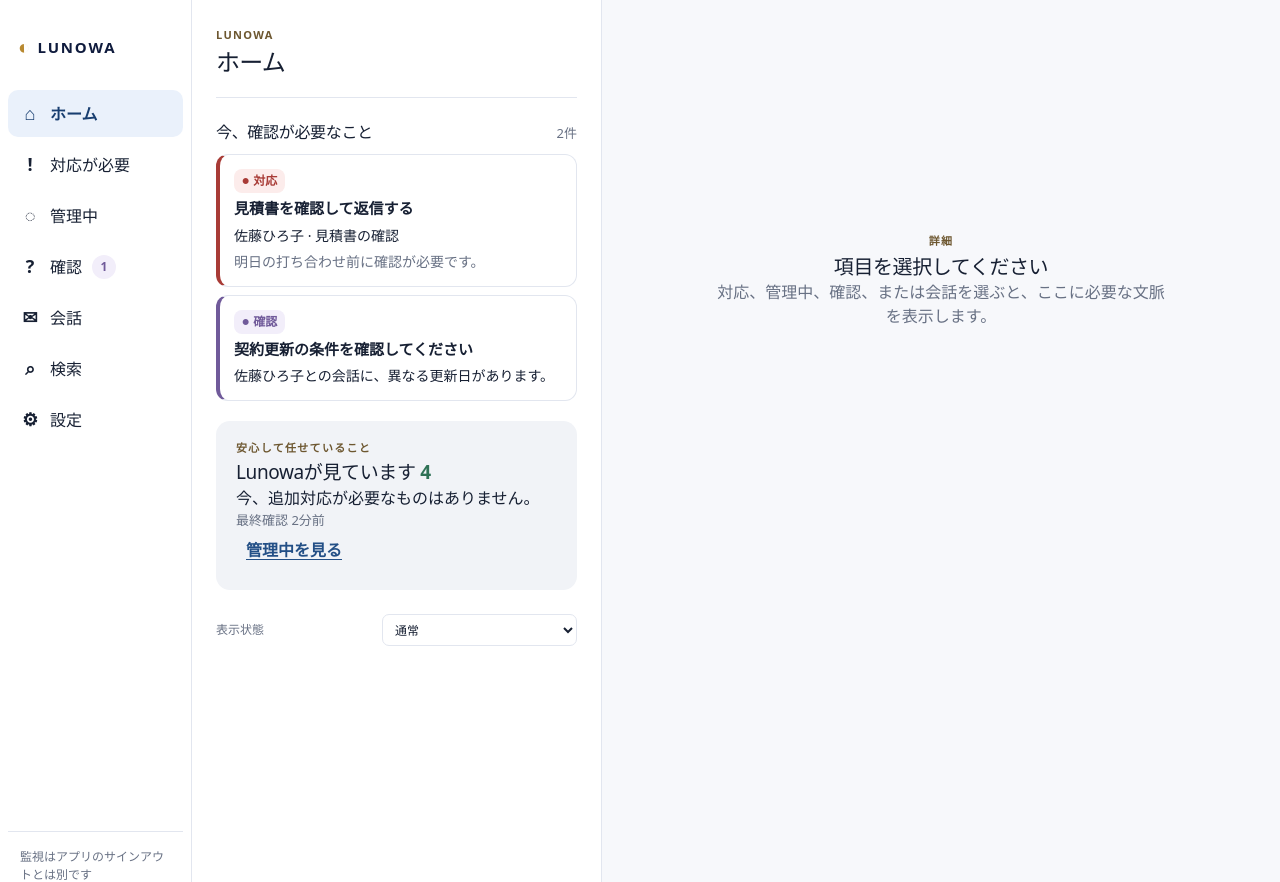
Test case: LunowaShell › keeps Source and Moment distinct and opens each from its explicit affordance
Click the button with aria-label "会話を表示" at (96, 318), box [8,294,183,341]
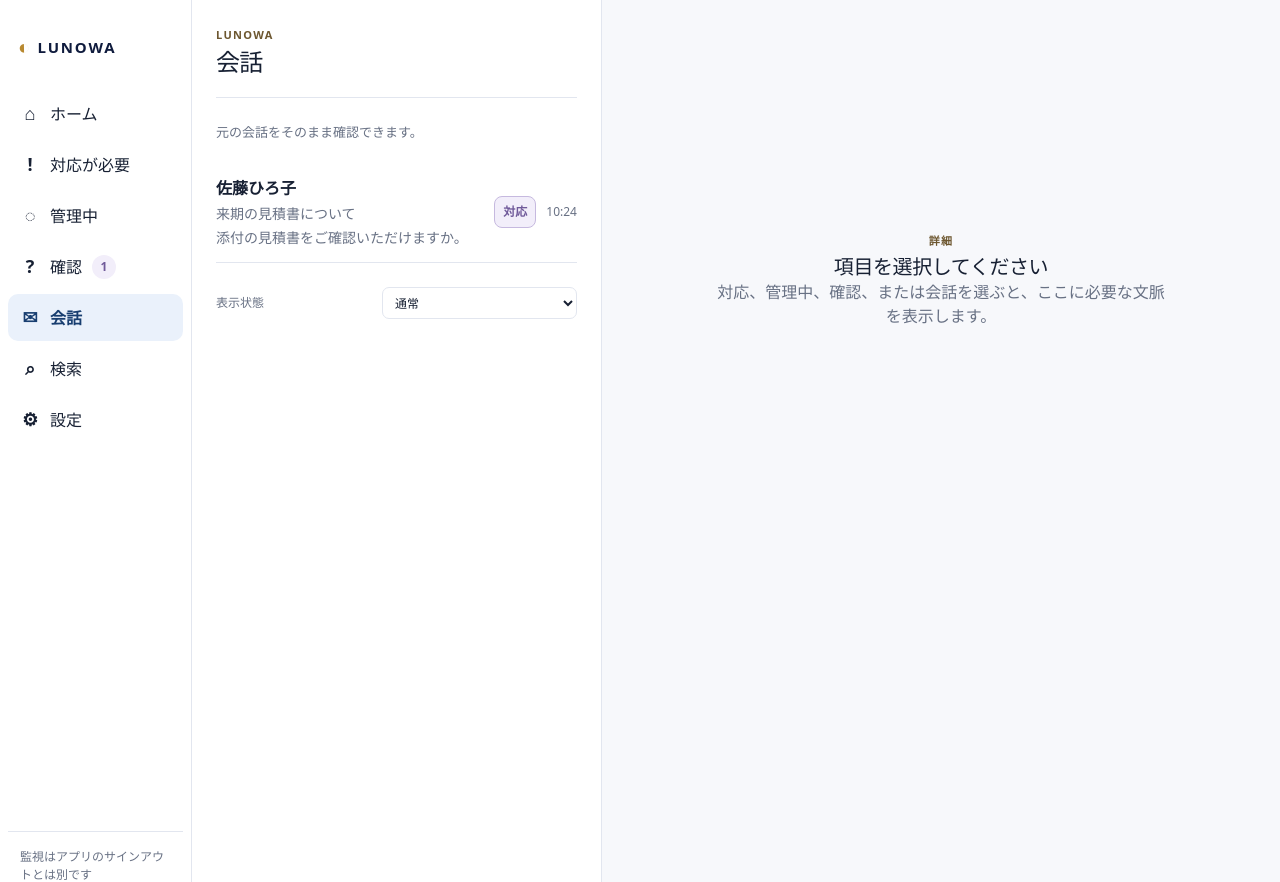
Click the button "佐藤ひろ子 来期の見積書について 添付の見積書をご確認いただけますか。" at (350, 212), box [216,174,484,250]
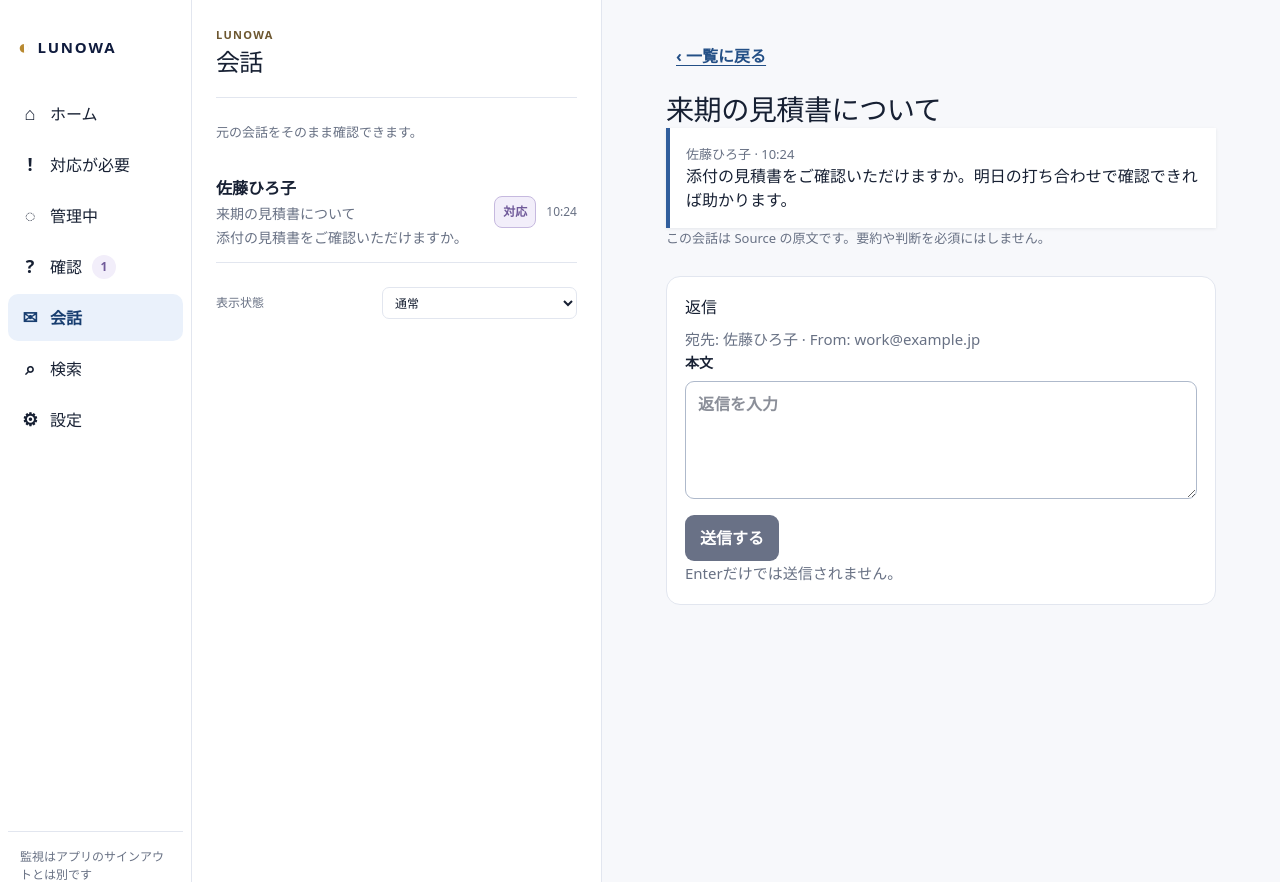
Check: the heading "来期の見積書について" is shown, box [666,90,941,128]
Check: the text "この会話は Source の原文です。要約や判断を必須にはしません。" is shown, box [666,229,1051,247]
Click the button "‹ 一覧に戻る" at (721, 56), box [666,36,776,76]
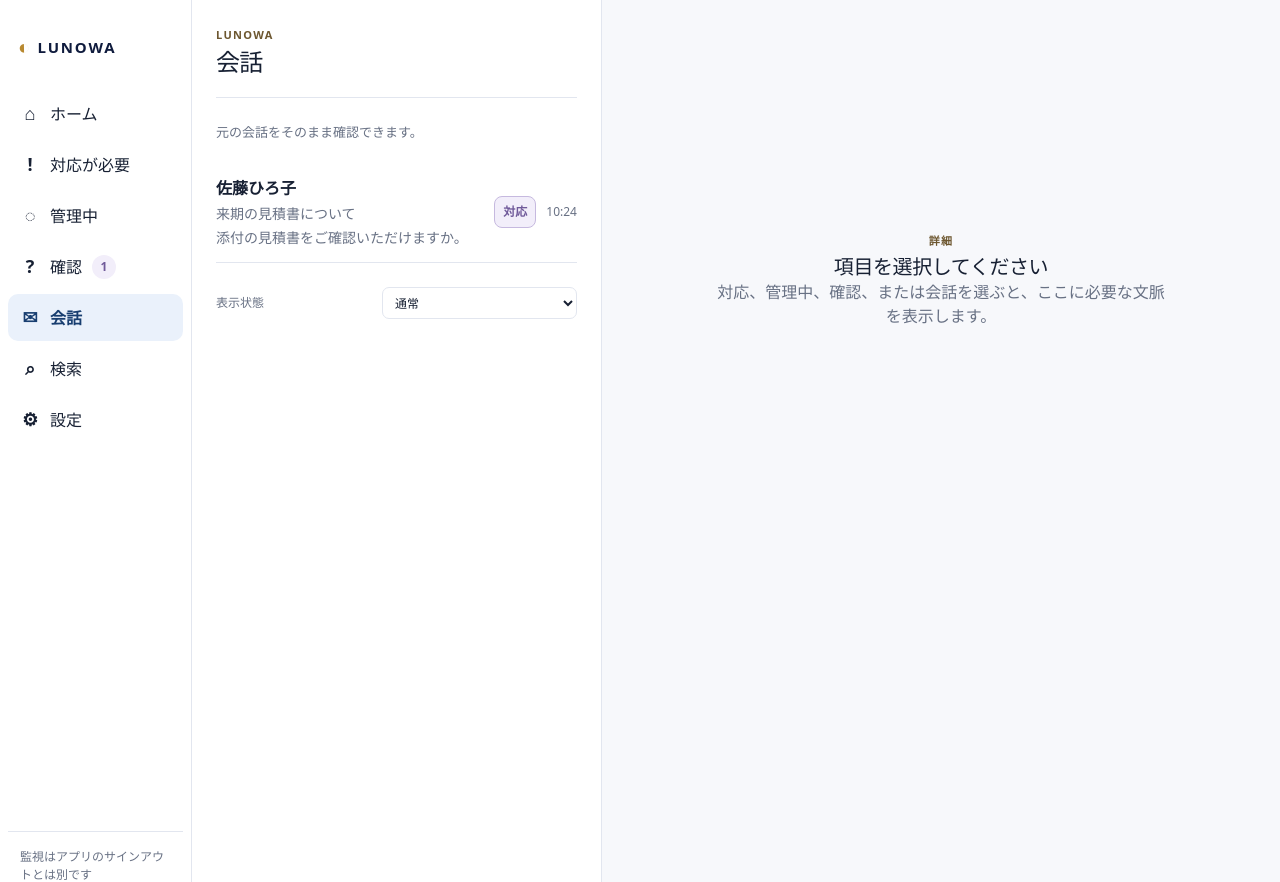
Click the button with aria-label "この会話の対応状況を見る" at (515, 212), box [494,196,536,228]
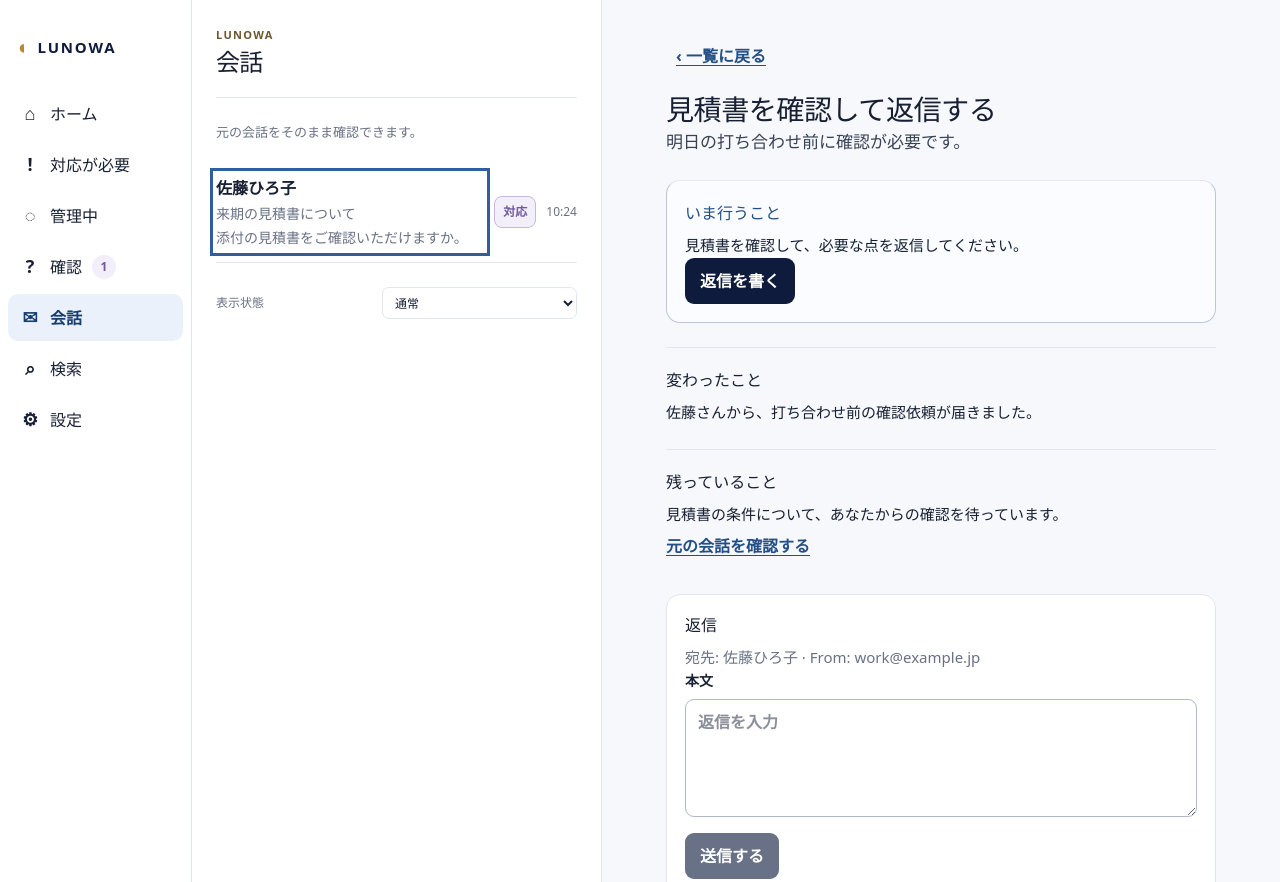
Check: the heading "見積書を確認して返信する" is shown, box [666,90,996,128]
